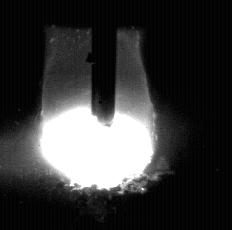arame: (92, 0, 116, 128)
poca: (40, 0, 154, 230)
